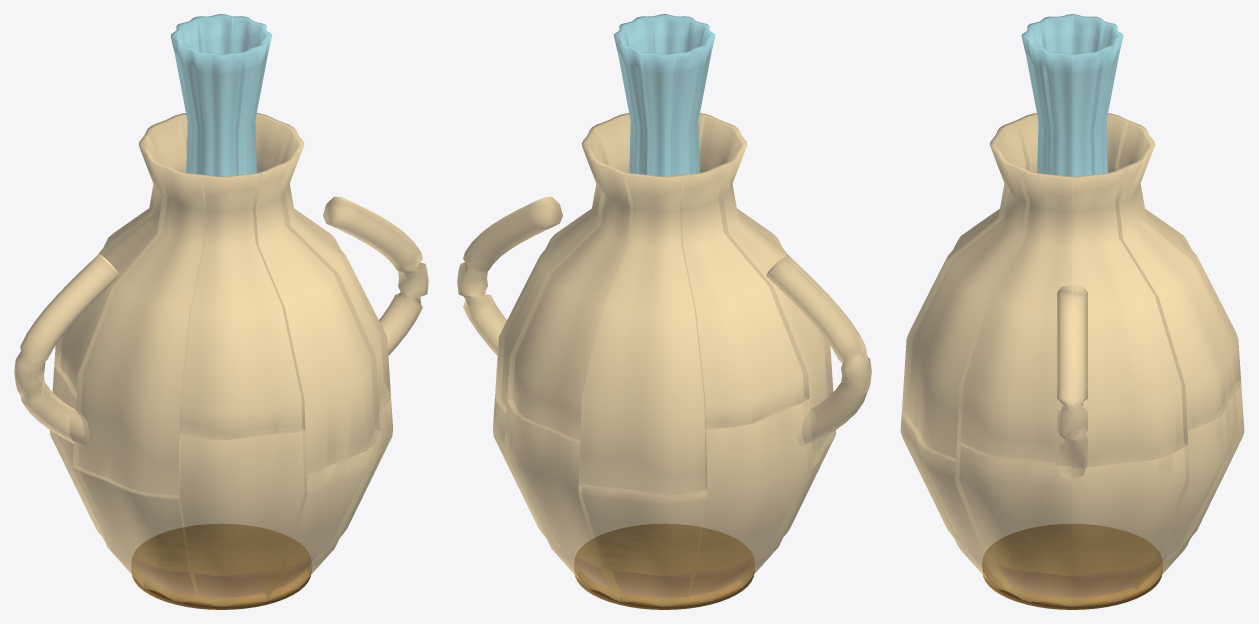
Rendered from vessels.glb.
3 views of the same model, side by side, from view 1: azimuth 30°, elevation 25°; view 2: azimuth 150°, elevation 25°; view 3: azimuth 270°, elevation 25° (orthographic).
Visible parts, largest first — view 1: vase_amphora_intact, vase_amphora, vase_fluted_intact, vase_fluted, vase_amphora_base, vase_rounded_base, vase_fluted_base; view 2: vase_amphora_intact, vase_amphora, vase_fluted_intact, vase_fluted, vase_amphora_base, vase_rounded_base, vase_fluted_base; view 3: vase_amphora, vase_amphora_intact, vase_fluted, vase_fluted_intact, vase_amphora_base, vase_rounded_base, vase_fluted_base.
Boxes of the visible parts, bbox=[...] form: vase_amphora_intact: bbox=[14, 113, 428, 606]; vase_amphora: bbox=[14, 113, 428, 605]; vase_fluted_intact: bbox=[171, 14, 271, 176]; vase_fluted: bbox=[171, 14, 271, 176]; vase_amphora_base: bbox=[131, 524, 311, 609]; vase_rounded_base: bbox=[141, 529, 300, 594]; vase_fluted_base: bbox=[159, 536, 283, 566]; vase_amphora_intact: bbox=[457, 113, 871, 606]; vase_amphora: bbox=[457, 113, 871, 605]; vase_fluted_intact: bbox=[614, 14, 714, 176]; vase_fluted: bbox=[614, 14, 714, 176]; vase_amphora_base: bbox=[574, 524, 754, 609]; vase_rounded_base: bbox=[585, 529, 744, 594]; vase_fluted_base: bbox=[602, 536, 726, 566]; vase_amphora: bbox=[900, 113, 1244, 605]; vase_amphora_intact: bbox=[901, 113, 1243, 606]; vase_fluted: bbox=[1021, 14, 1123, 176]; vase_fluted_intact: bbox=[1021, 14, 1123, 176]; vase_amphora_base: bbox=[982, 524, 1162, 609]; vase_rounded_base: bbox=[992, 528, 1152, 595]; vase_fluted_base: bbox=[1010, 539, 1134, 578].
Bounding box in the file's own units: 0.554 × 0.69 × 0.4011.
